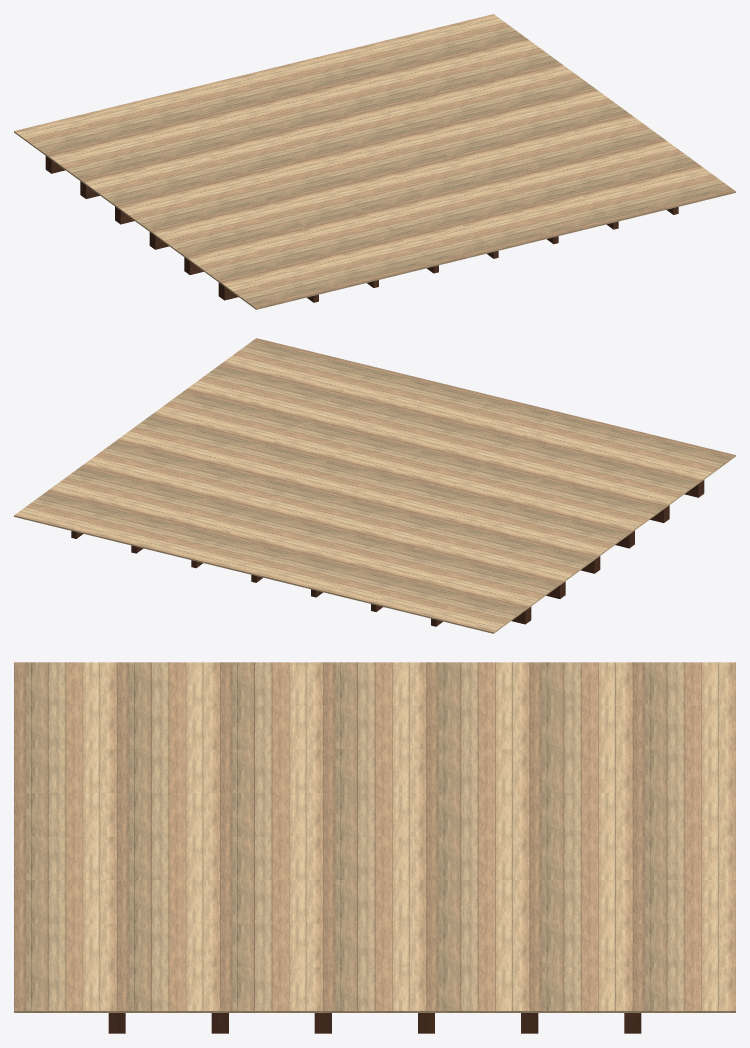
File: 21B_Techo.fbx
The picture shows the model from 3 angles, top to bottom: view 1: azimuth 30°, elevation 25°; view 2: azimuth 150°, elevation 25°; view 3: azimuth 270°, elevation 25°; orthographic projection. The views are drawn at different scales.
Parts seen in each view (by area): view 1: SM_21B_Techo; view 2: SM_21B_Techo; view 3: SM_21B_Techo.
Part boxes in pixels (bbox=[...]): SM_21B_Techo: bbox=[14, 14, 735, 309]; SM_21B_Techo: bbox=[14, 338, 735, 633]; SM_21B_Techo: bbox=[14, 662, 735, 1033].
Size of the model in its own units: 7.2 by 0.22 by 6.3.
